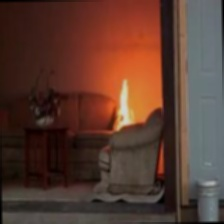fire: (111, 73, 141, 119)
